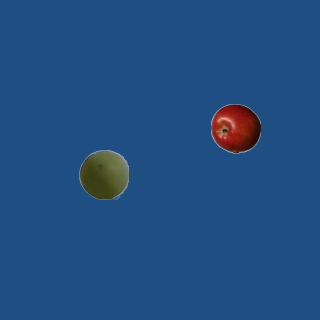Apple Braeburn: (210, 103, 260, 153)
Grape White 4: (78, 149, 128, 199)
